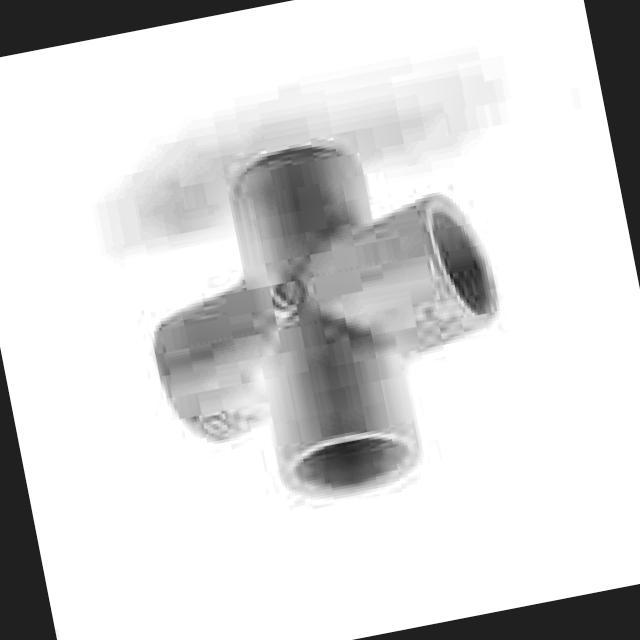EQUALCROSS: (154, 140, 495, 495)
